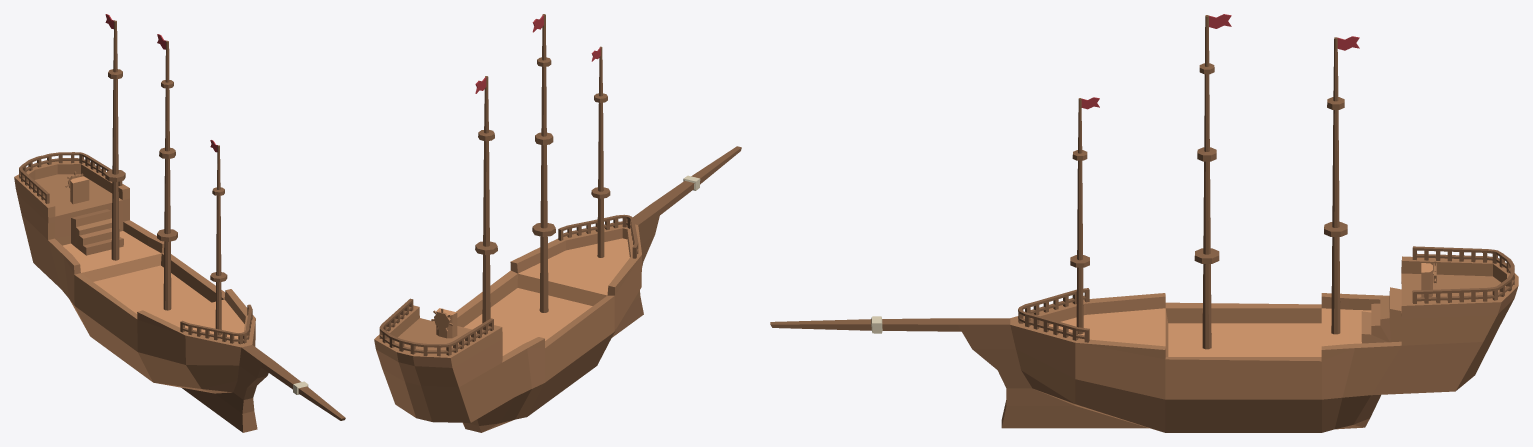
Rendered from ShipT3.fbx.
3 renders of one model, left to right at view 1: azimuth 30°, elevation 25°; view 2: azimuth 150°, elevation 25°; view 3: azimuth 270°, elevation 25°, orthographic. The views are drawn at different scales.
Visible parts, largest first — view 1: BigShip; view 2: BigShip; view 3: BigShip.
Part boxes in pixels (x1,y1,x2,y2): BigShip: (14, 14, 345, 432); BigShip: (374, 14, 741, 432); BigShip: (770, 14, 1518, 432).
Bounding box in the file's own units: 115 × 385 × 638.
